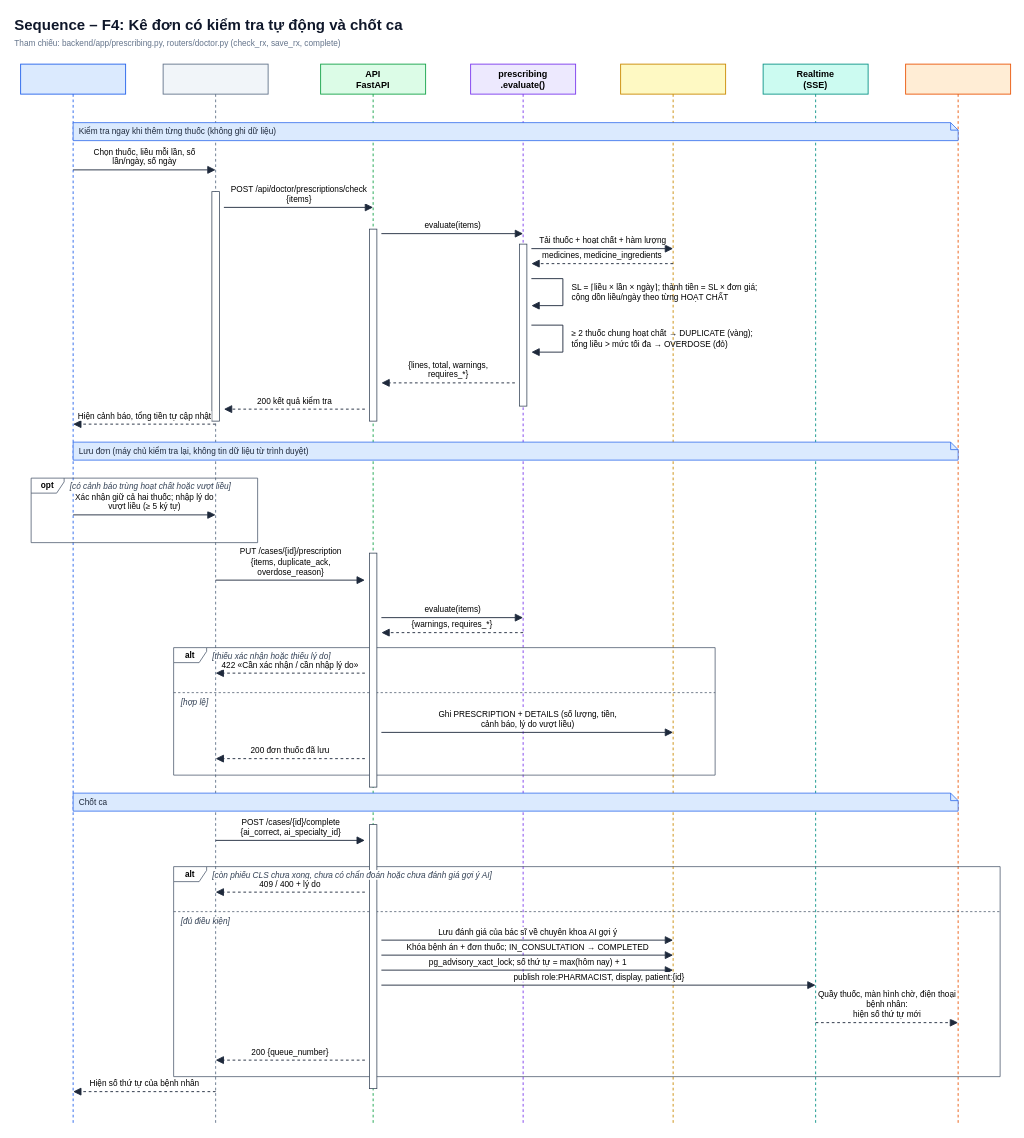
The diagram is 1024 pixels wide and 1138 high, and some of its shapes have lost their labels. The shapes that lost their labels are listed below. From the top down, each one's box as (x1, y1, x2, y2) in pixels, then its label:
(20, 63, 126, 1125): Bác sĩ
(162, 63, 268, 1125): Giao diện web
(620, 63, 726, 1125): PostgreSQL
(905, 63, 1011, 1125): Quầy thuốc / Bệnh nhân
